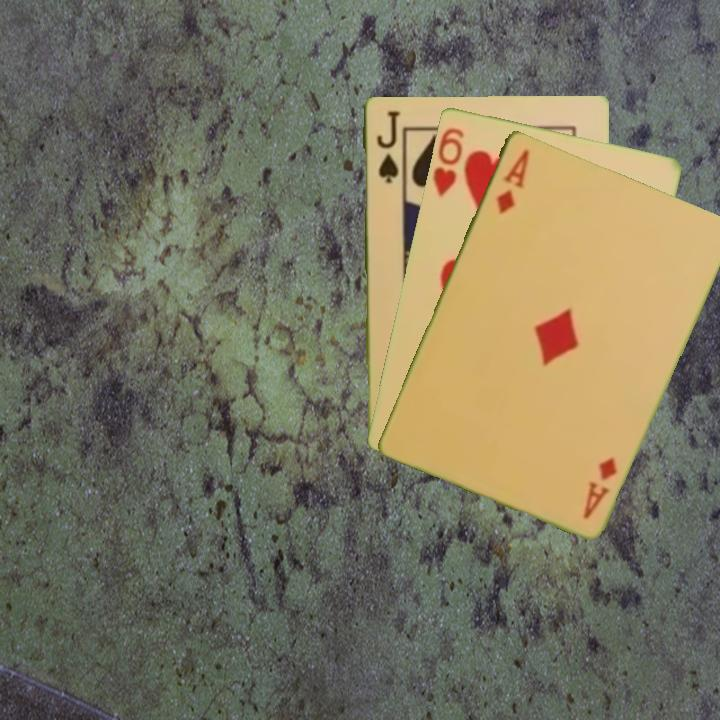6h: (429, 123, 467, 200)
Ad: (492, 145, 532, 217), (579, 452, 620, 522)
Js: (373, 107, 400, 185)
